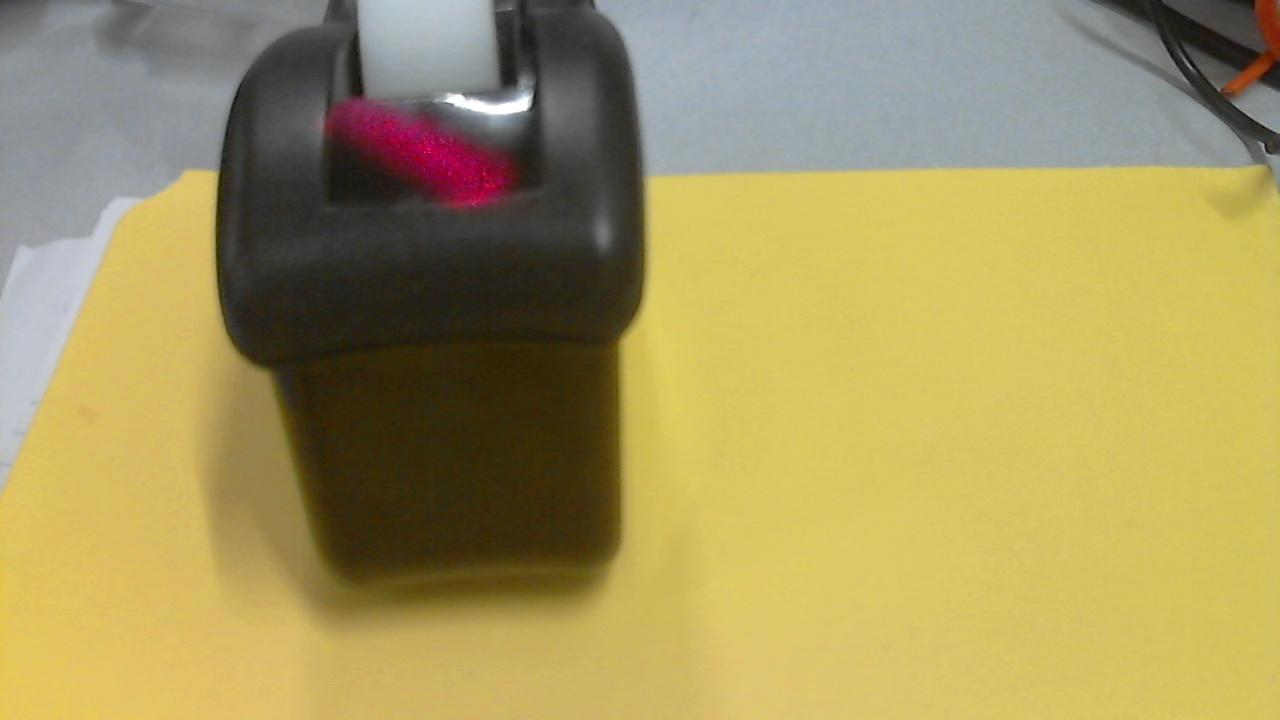Object desktop tape dispenser - Material plastic - Pdfname 8pMd29OsIRjD: (315, 83, 530, 227)
